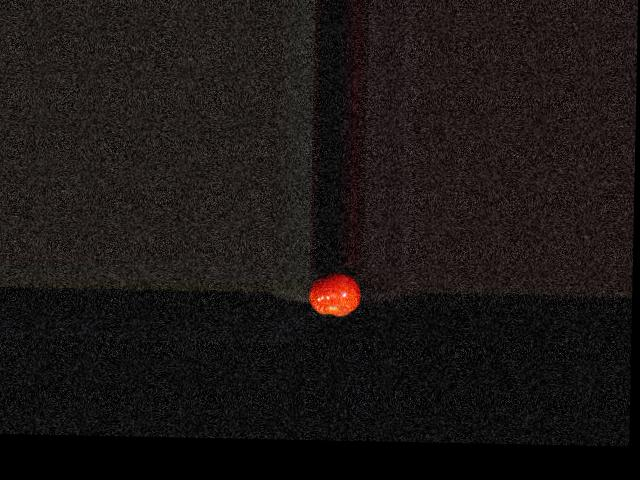tomato: (309, 272, 362, 316)
